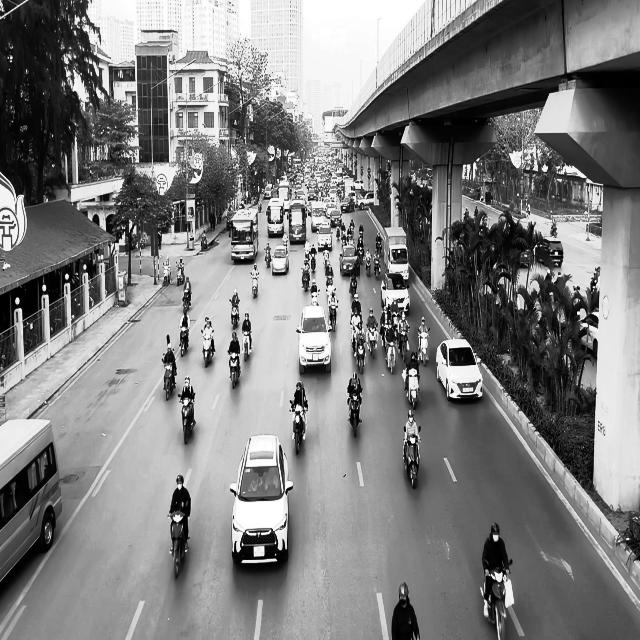bus: (0, 417, 62, 582), (230, 208, 259, 263), (383, 226, 409, 282)
car: (229, 434, 293, 565), (435, 338, 483, 402), (296, 305, 332, 374), (381, 272, 410, 314), (339, 244, 359, 276), (271, 244, 289, 275)
motorbike: (480, 560, 513, 640), (168, 510, 188, 579), (402, 426, 421, 488), (289, 400, 308, 454), (178, 392, 196, 444), (347, 388, 363, 437), (404, 367, 420, 409), (162, 356, 176, 401), (200, 329, 215, 367), (417, 328, 430, 366), (228, 350, 240, 389), (229, 298, 240, 328), (242, 329, 252, 361), (328, 300, 338, 332), (179, 326, 189, 356), (250, 272, 259, 298), (182, 288, 191, 314), (162, 263, 170, 286)
